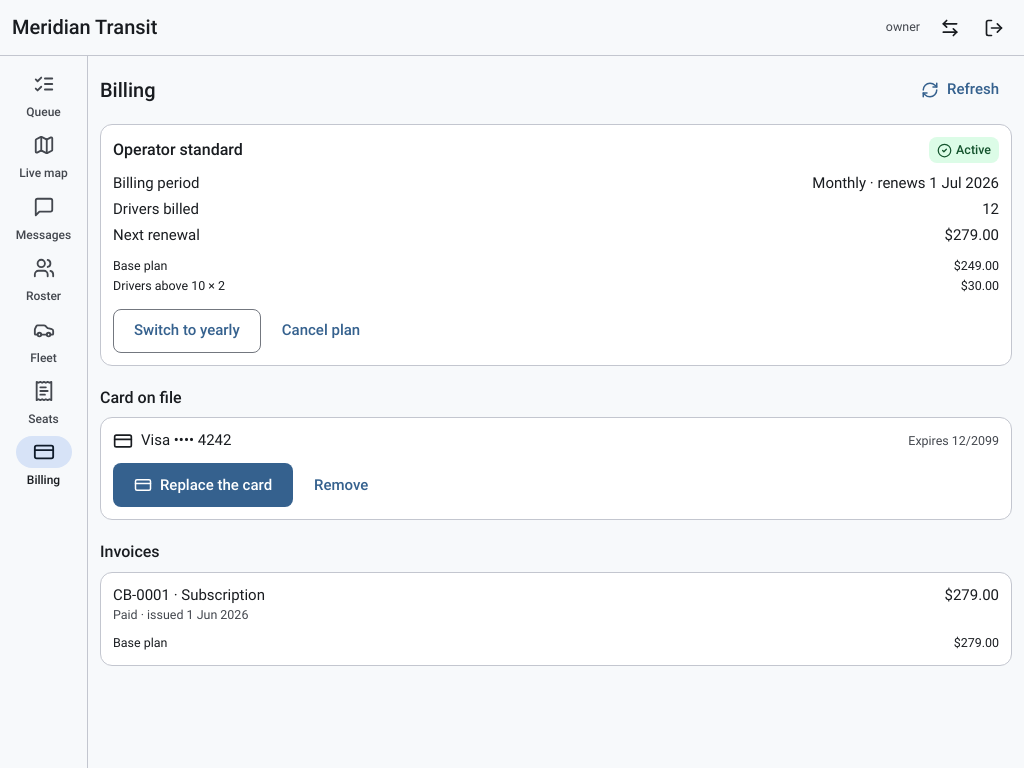
billing › a card number is never asked for
Click the button "Replace the card": (203, 486) [113,464,293,508]
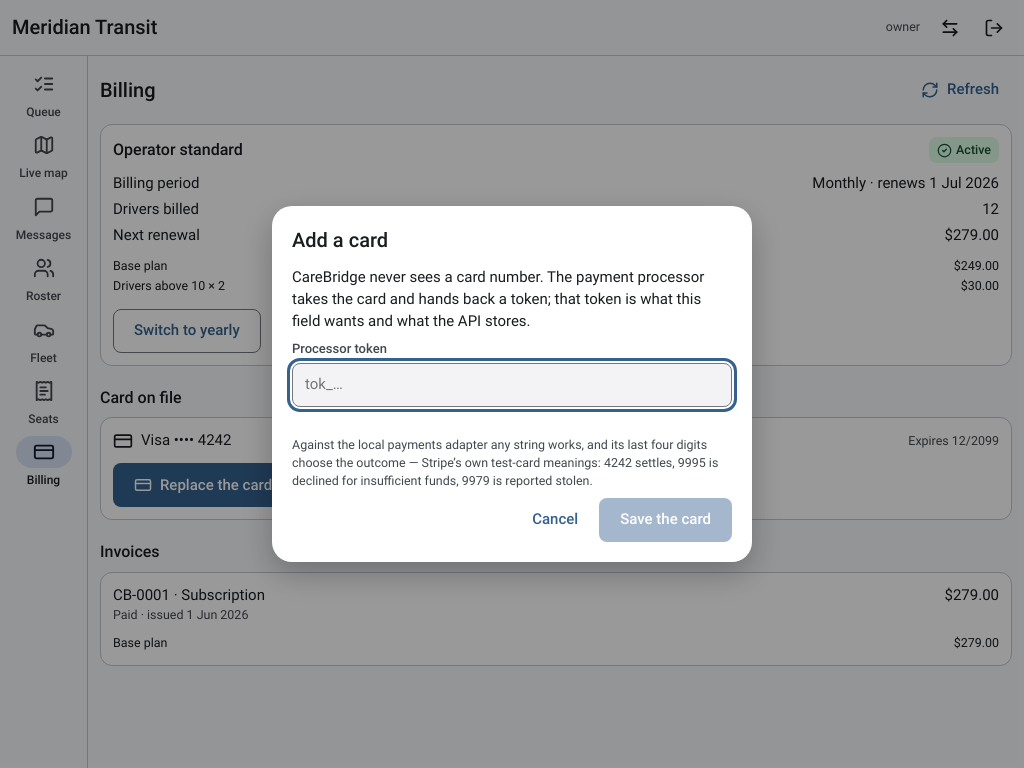
Now the field labelled "Processor token" is shown, box [292,363,732,407]
